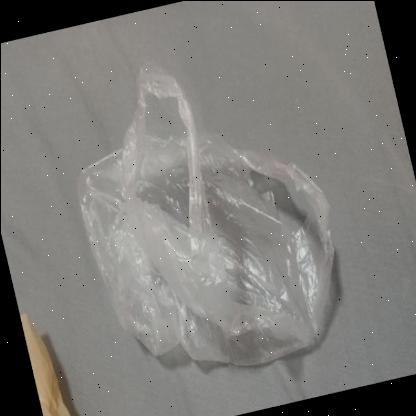Others: (76, 59, 336, 367)
